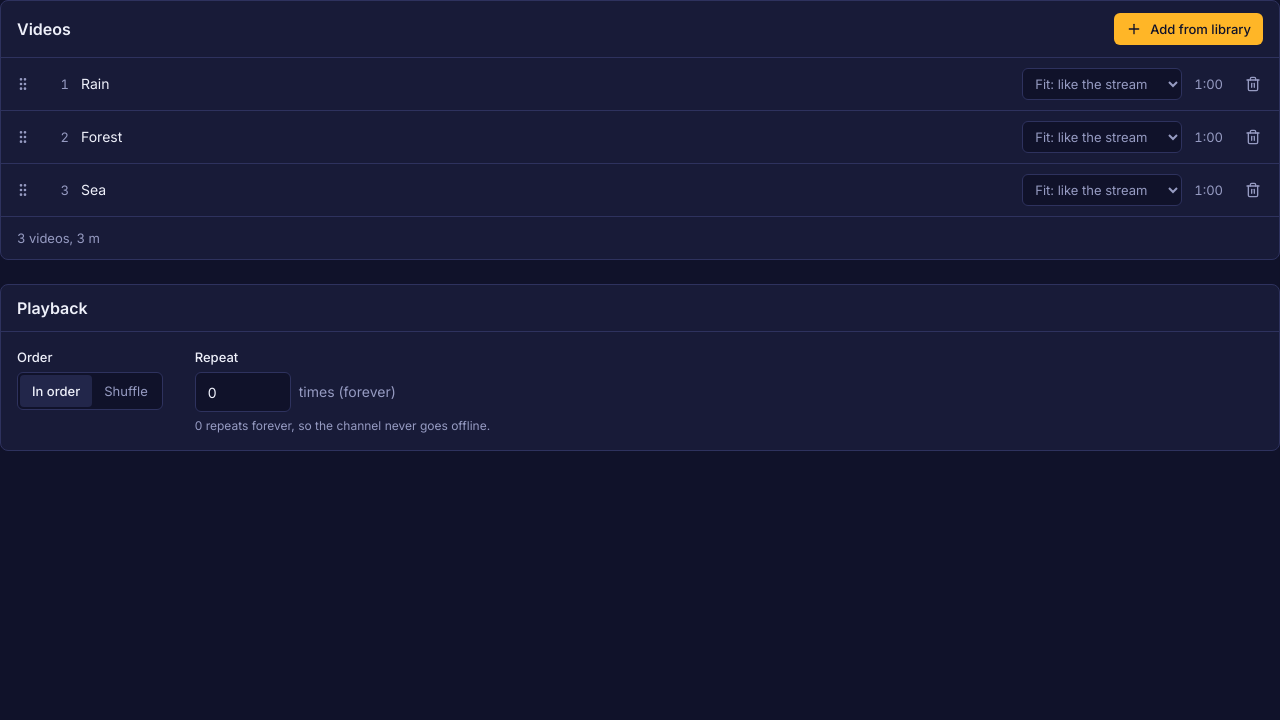
Test case: playlist edits (UX audit #9, #16) › says a removal on air applies after the current video
The image size is (1280, 720).
What coordinates should you click on to do the following:
click the button named "Remove Sea"
I would click on:
 (1253, 190)
Its box is [1235, 172, 1271, 208].
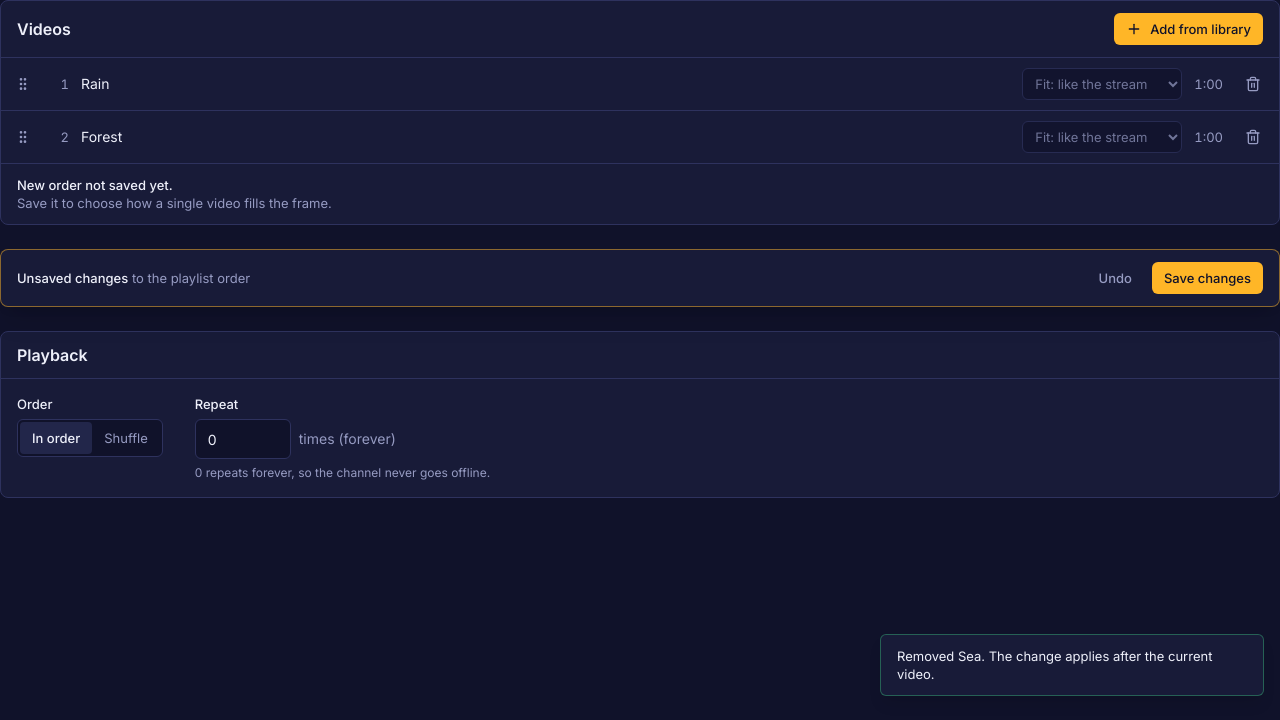
Expected: the text "Removed Sea. The change applies after the current video." is shown, [880, 634, 1264, 696]
